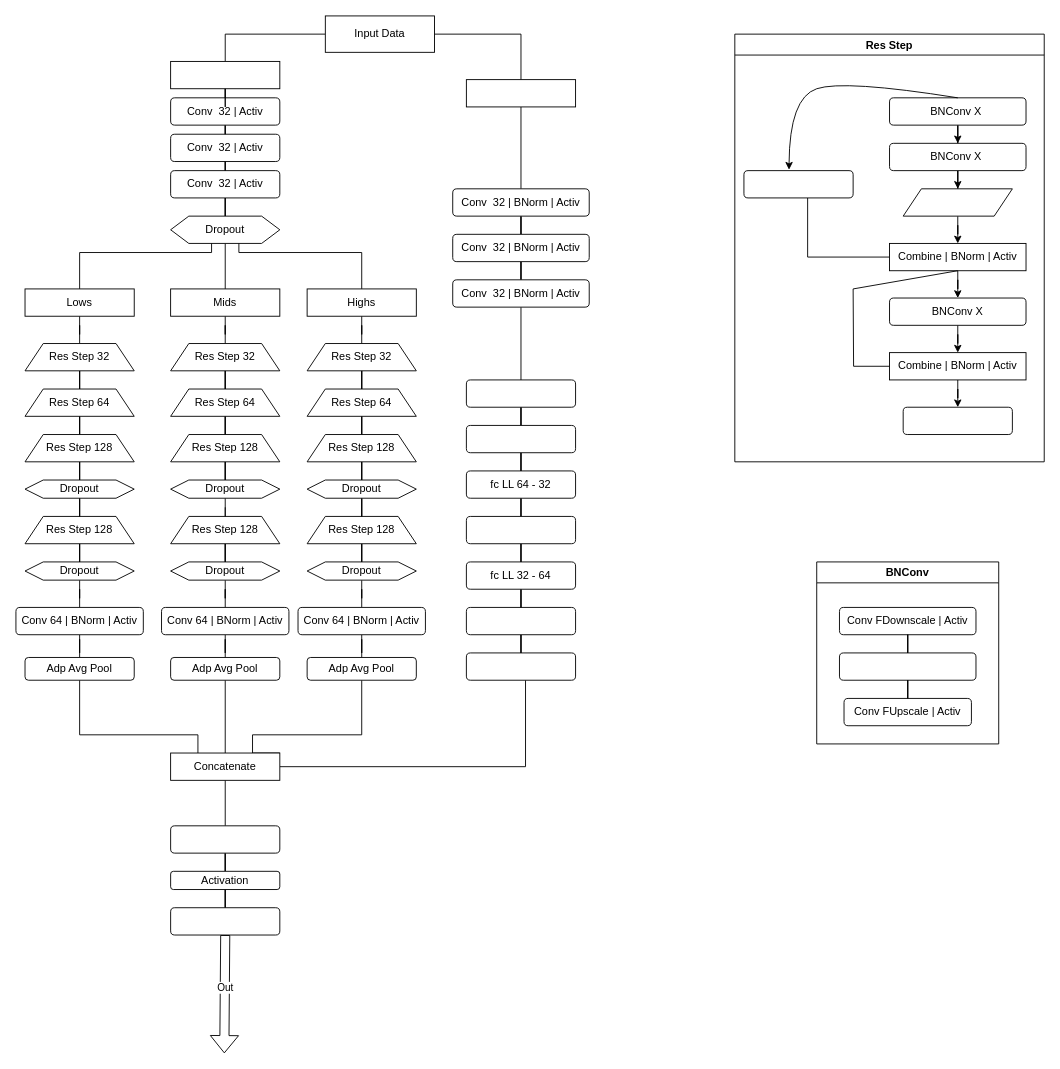
Image size: 1060x1069. Some labels were removed from this diagram. The centre of each missing label's shape, as x and y in pixels:
"1/2 Conv | BNorm | Activ" goes at (907,666).
"Conv Downscale" goes at (798,184).
"Conv Upscale" goes at (957,420).
"fc LL 128 - 19" goes at (225,921).
"fc LL 128 - 576" goes at (520,666).
"fc LL 128 - 64" goes at (520,439).
"fc LL 2304 - 128" goes at (225,839).
"fc LL 32 - 32" goes at (520,530).
"fc LL 512 - 128" goes at (520,393).
"fc LL 64 - 128" goes at (520,621).
"Feature Data" goes at (520,93).
"Max Pool" goes at (957,202).
"Spectro Data" goes at (225,75).
